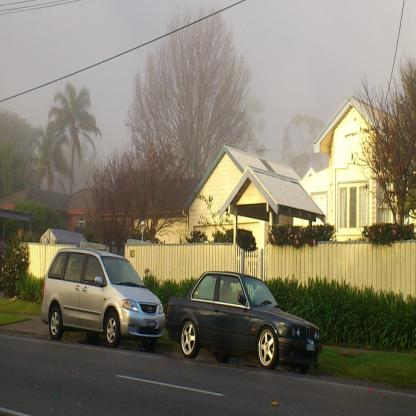Car: (162, 277, 314, 375), (42, 250, 167, 348)
